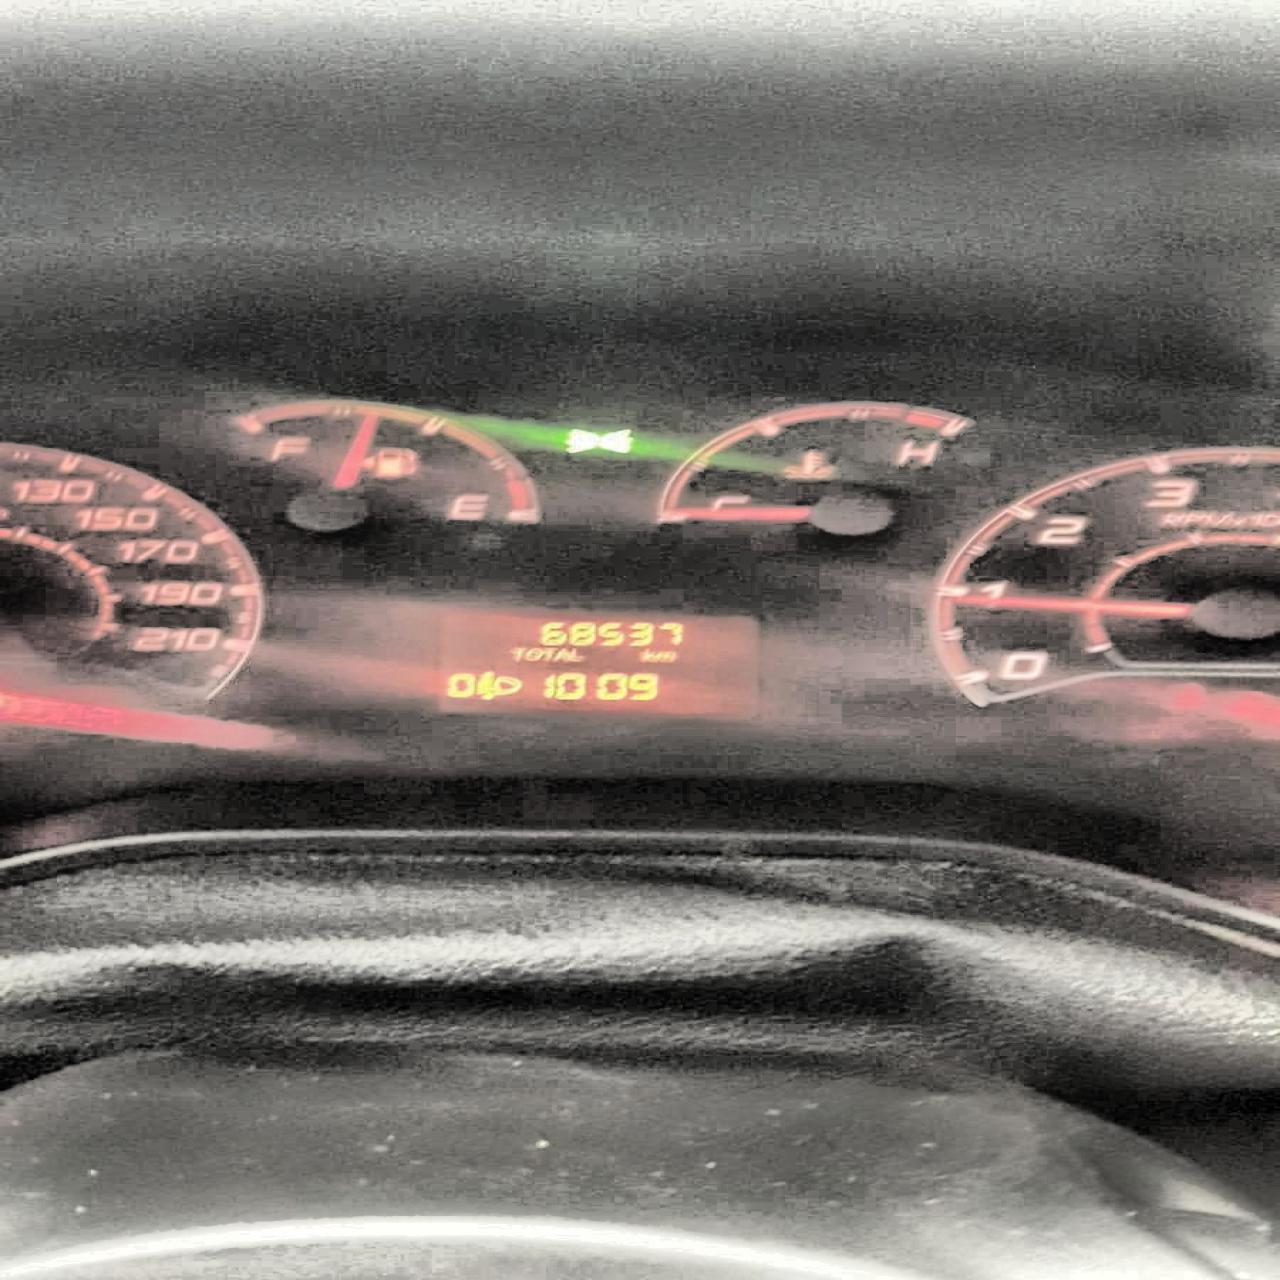0: (594, 672, 628, 701), (444, 670, 475, 700), (556, 670, 583, 700)
1: (540, 670, 553, 699)
3: (627, 620, 655, 647)
5: (598, 620, 625, 646)
6: (539, 620, 566, 646)
7: (659, 620, 686, 646)
8: (567, 620, 595, 646)
9: (628, 673, 661, 702)
X: (505, 647, 525, 662), (639, 648, 655, 662), (525, 647, 542, 661), (655, 651, 675, 661), (556, 647, 570, 661), (568, 647, 583, 661), (543, 646, 556, 661)
odometer: (421, 606, 768, 715)
